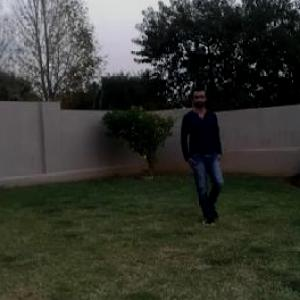follow: (185, 89, 223, 217)
